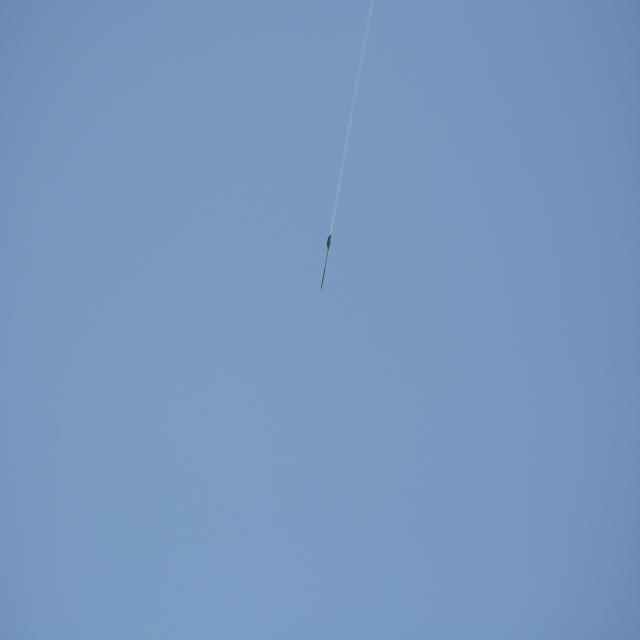Rocket: (321, 231, 332, 291)
